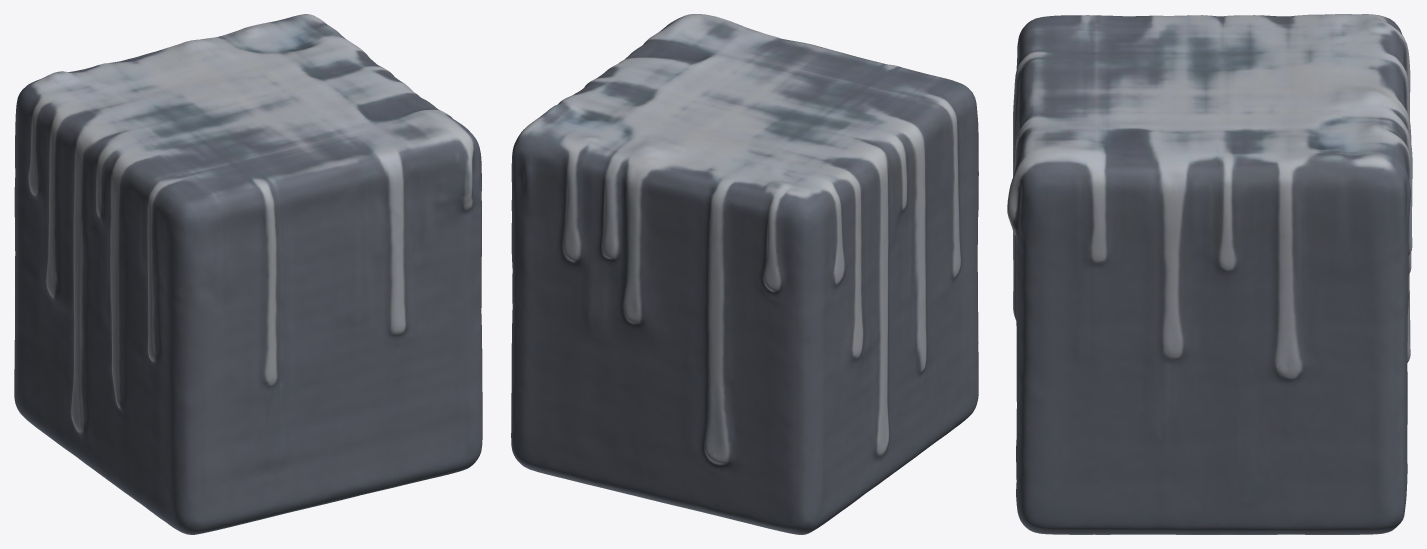
File: 20925ef5295d_melting_cube__3d_as.fbx
3 views of the same model, side by side, from view 1: azimuth 30°, elevation 25°; view 2: azimuth 150°, elevation 25°; view 3: azimuth 270°, elevation 25° (orthographic). The views are drawn at different scales.
Visible parts, largest first — view 1: high_poly; view 2: high_poly; view 3: high_poly.
Part boxes in pixels (left/top/right/bottom): high_poly: left=14, top=14, right=482, bottom=534; high_poly: left=511, top=14, right=978, bottom=534; high_poly: left=1007, top=14, right=1412, bottom=534.
Size of the model in its own units: 95.12 by 100 by 97.26.
